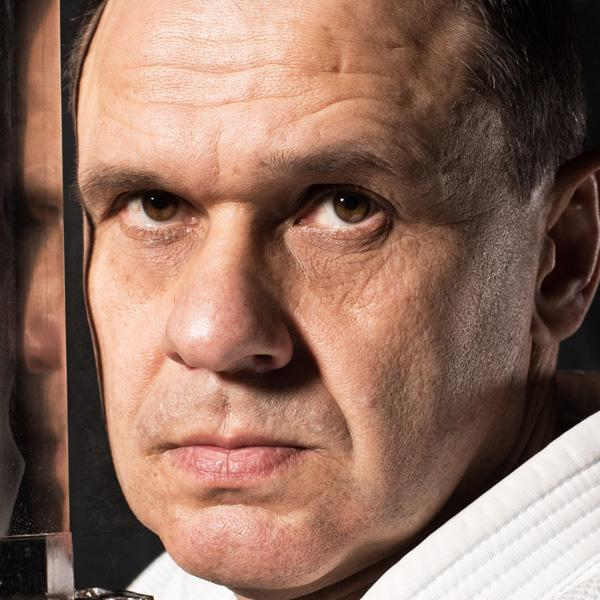Eyes: (278, 172, 408, 248), (92, 178, 215, 248)
